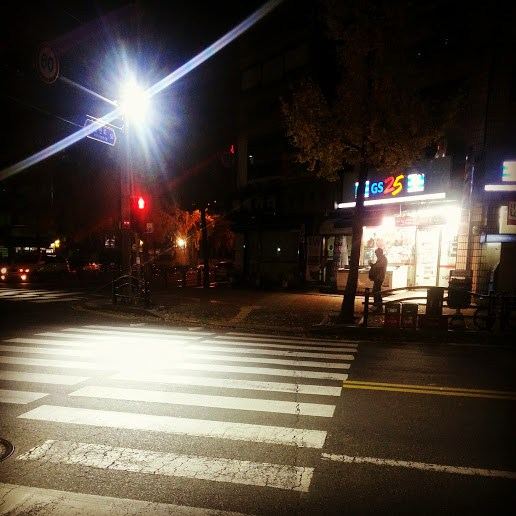traffic_light: (133, 196, 150, 223)
